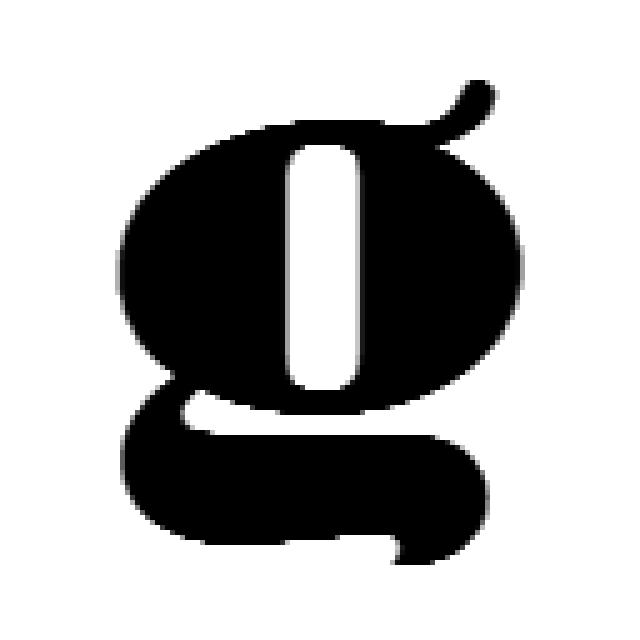G: (100, 70, 520, 563)
